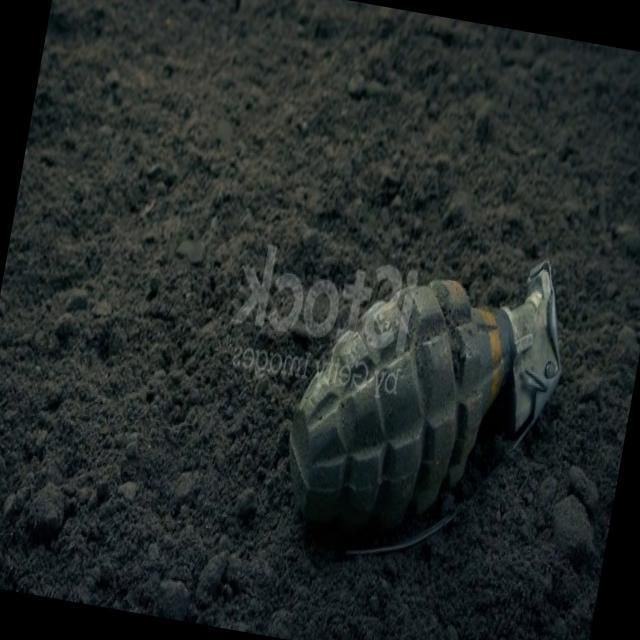grenade: (266, 217, 588, 586)
